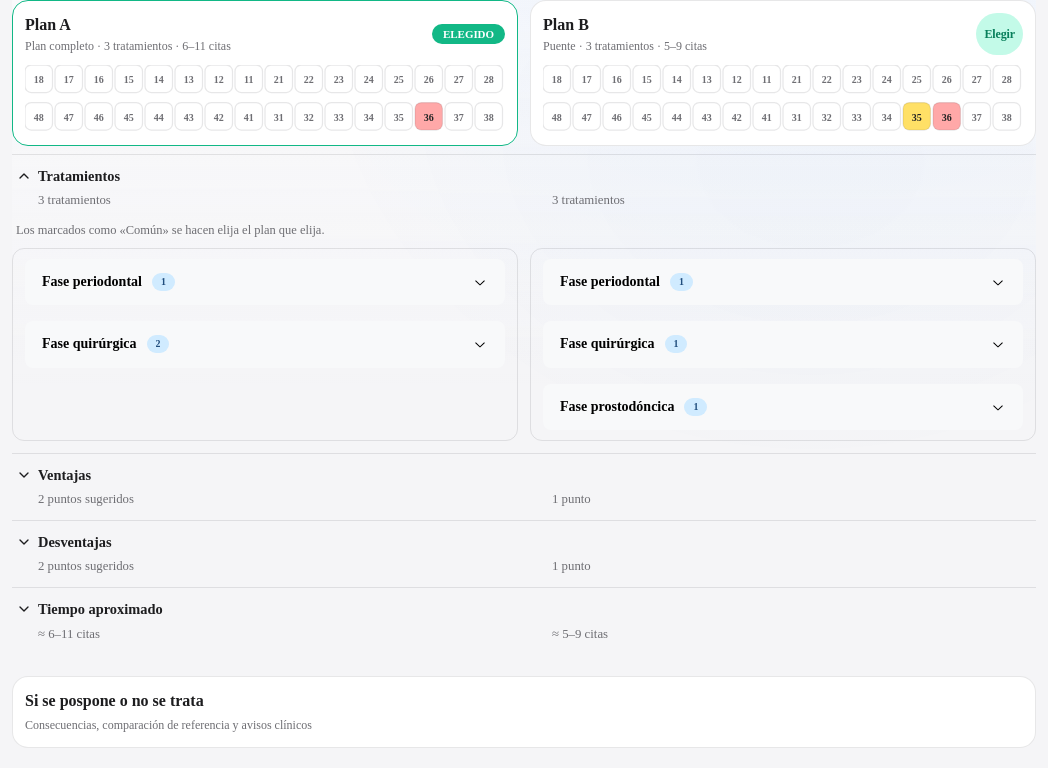
Test: PlanAlternativesBoard › opens advantages and disadvantages for every plan at once, aligned in one row
Click the button "Ventajas 2 puntos sugeridos 1 punto" at [65, 475], box [12,453,1036,520]
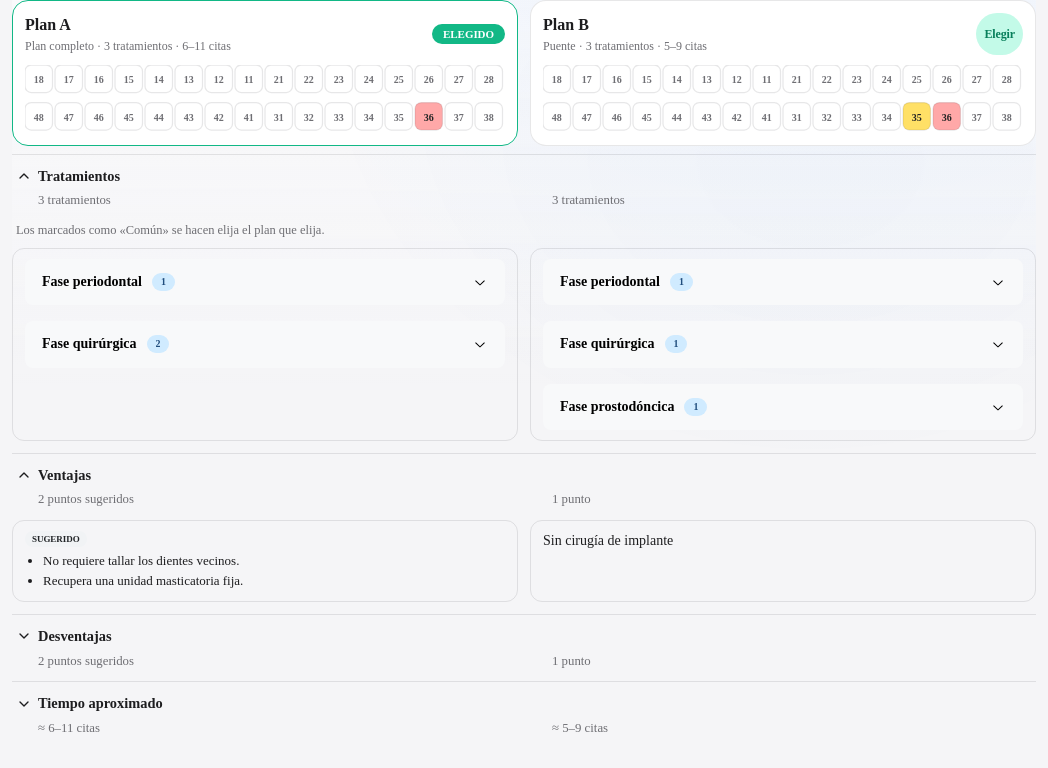
Expected: the button "Ventajas 2 puntos sugeridos 1 punto" is expanded, [12,453,1036,520]
Expected: the element named "Ventajas del Plan A" is shown, [12,520,518,602]
Expected: the element named "Ventajas del Plan B" reads "Sin cirugía de implante", [543,533,673,548]
Click the button "Desventajas 2 puntos sugeridos 1 punto" at [75, 636], box [12,614,1036,682]
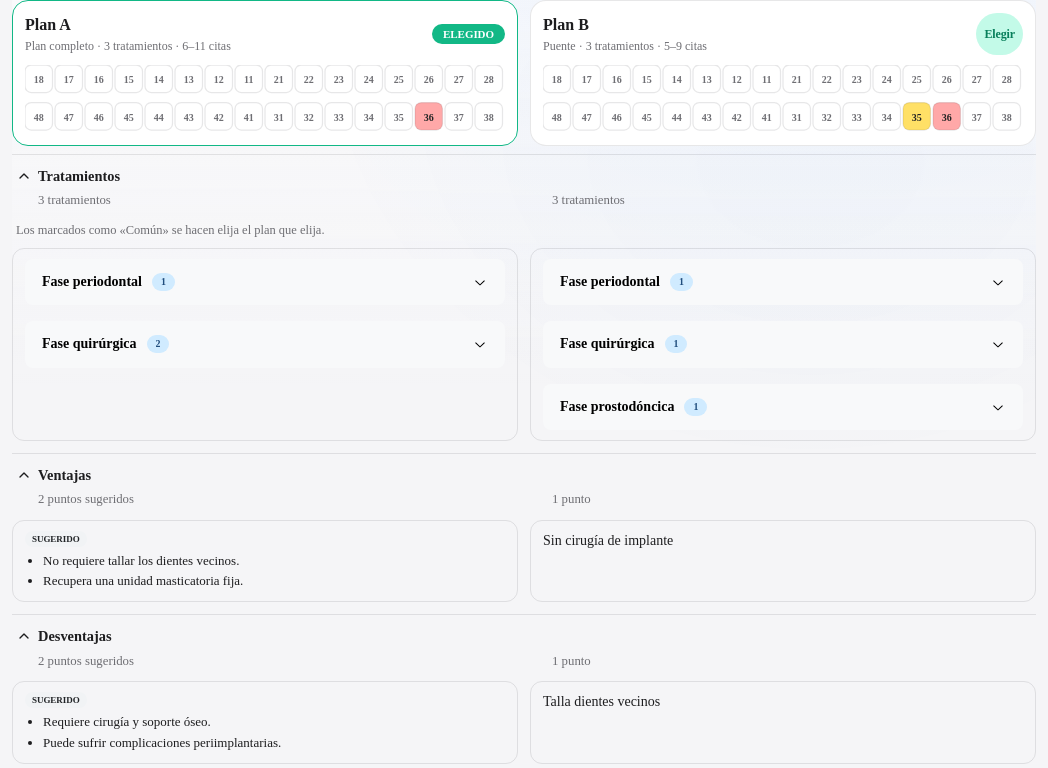
Expected: the element named "Desventajas del Plan B" reads "Talla dientes vecinos", [543,694,660,710]
